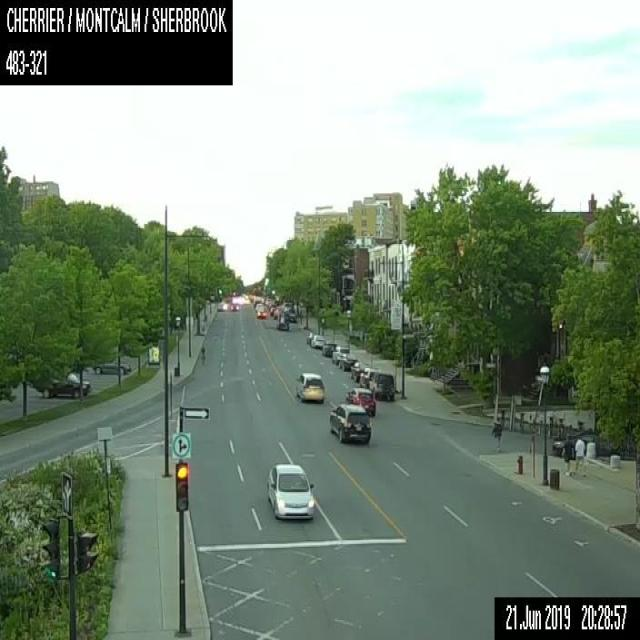cyclist: (200, 345, 205, 364)
pedestrian: (560, 435, 573, 477), (574, 435, 585, 476), (489, 417, 501, 452)
vehicle: (264, 460, 314, 520), (328, 403, 370, 443), (34, 372, 90, 398), (296, 369, 326, 402), (345, 387, 375, 415), (366, 370, 394, 400), (93, 360, 130, 374), (359, 367, 379, 387), (349, 361, 368, 381), (338, 352, 356, 370), (332, 344, 348, 363), (322, 340, 336, 356), (310, 332, 324, 347), (276, 312, 288, 329), (283, 303, 295, 320), (305, 331, 315, 343), (254, 302, 263, 312), (216, 301, 226, 310), (256, 308, 265, 318), (230, 301, 238, 310), (273, 308, 280, 318), (270, 306, 276, 314)
